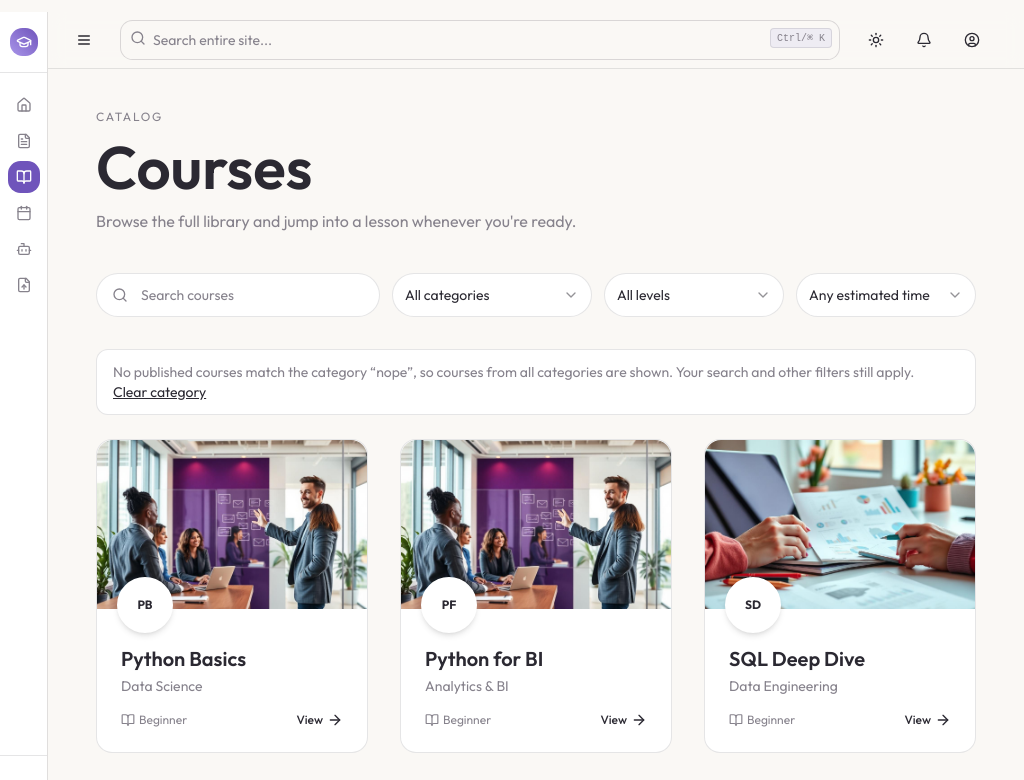
2. the unknown-category notice is accurate and other filters are kept › Clear category drops only ?category= and keeps the search narrowing
Type "python" into the field with placeholder "Search courses" at [238, 295], box [96,273,380,317]
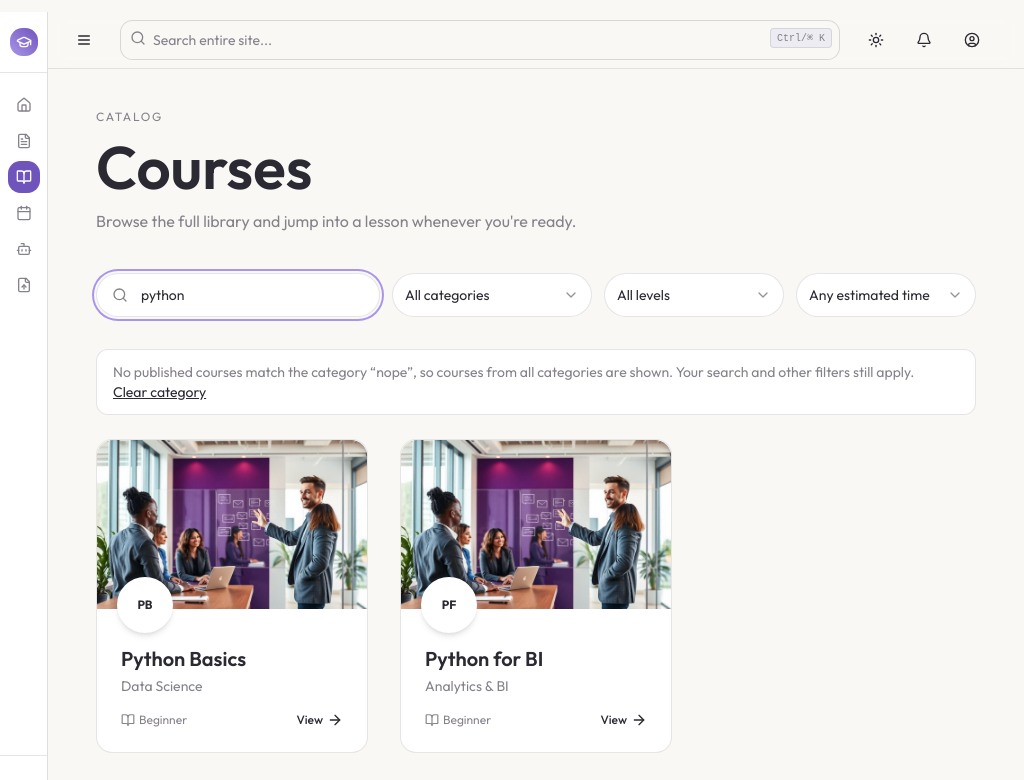
Click the button "Clear category" at [160, 392], box [113,382,206,402]
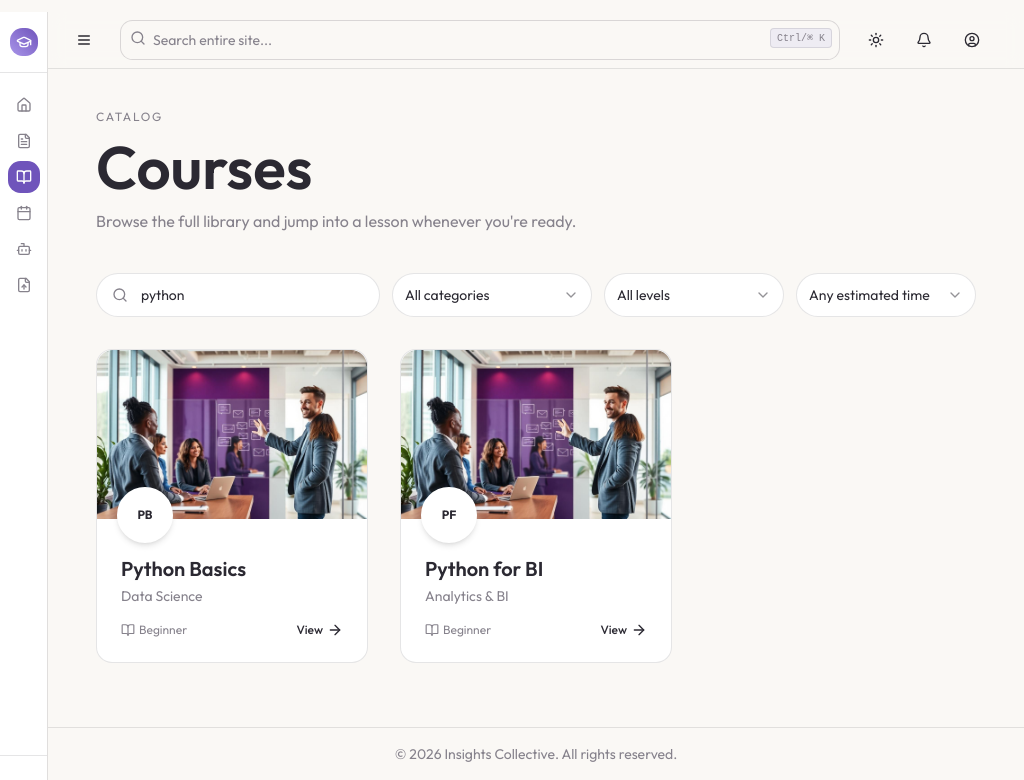
Now the message is gone
